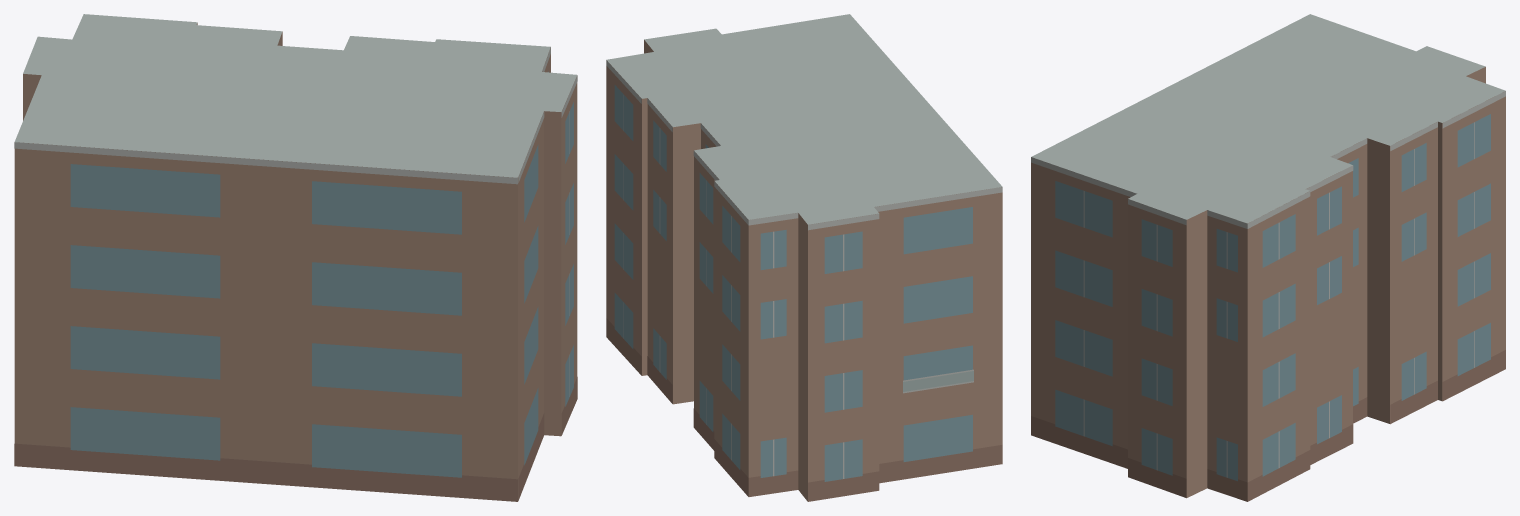
Rendered from survey-upis-33009014.glb.
3 renders of one model, left to right at view 1: azimuth 30°, elevation 25°; view 2: azimuth 150°, elevation 25°; view 3: azimuth 270°, elevation 25°, orthographic. The views are drawn at different scales.
Visible parts, largest first — view 1: survey-upis-33009014.tmp; view 2: survey-upis-33009014.tmp; view 3: survey-upis-33009014.tmp.
Boxes of the visible parts, x1,y1,x2,y2 form: survey-upis-33009014.tmp: (14,14,577,501); survey-upis-33009014.tmp: (606,14,1002,501); survey-upis-33009014.tmp: (1031,14,1505,501).
Size of the model in its own units: 19.62 by 12.15 by 18.79.
